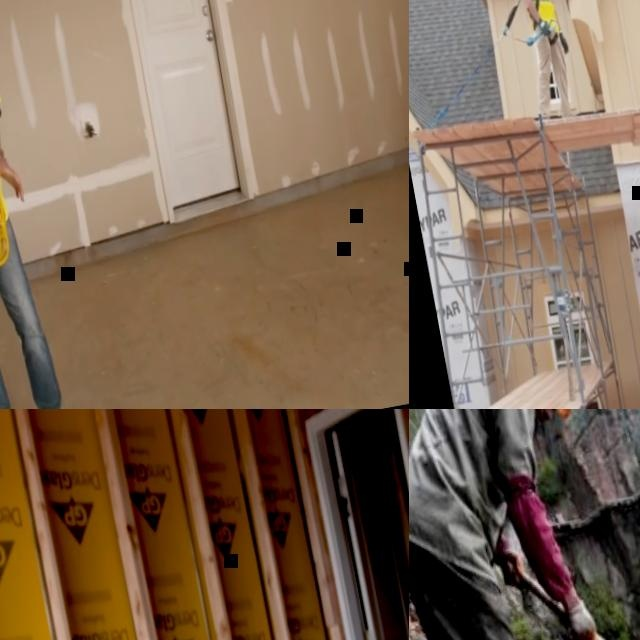NO-Mask: (530, 409, 549, 425)
NO-Safety Vest: (409, 409, 543, 579)
Person: (409, 409, 640, 640), (0, 0, 90, 409), (505, 0, 580, 122)
Safety Vest: (517, 0, 559, 37)
